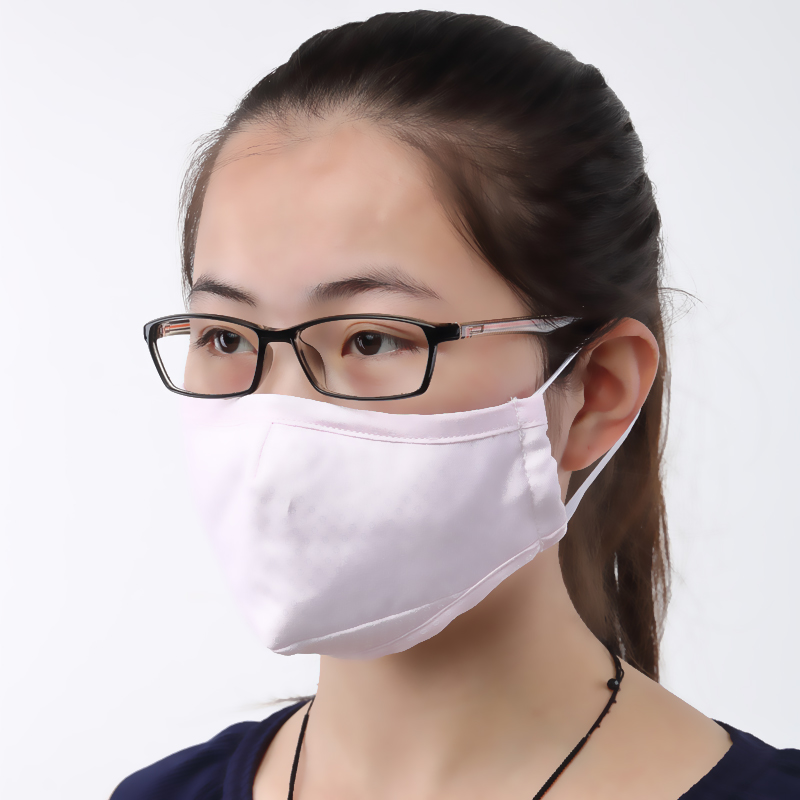face_mask: (178, 175, 568, 657)
